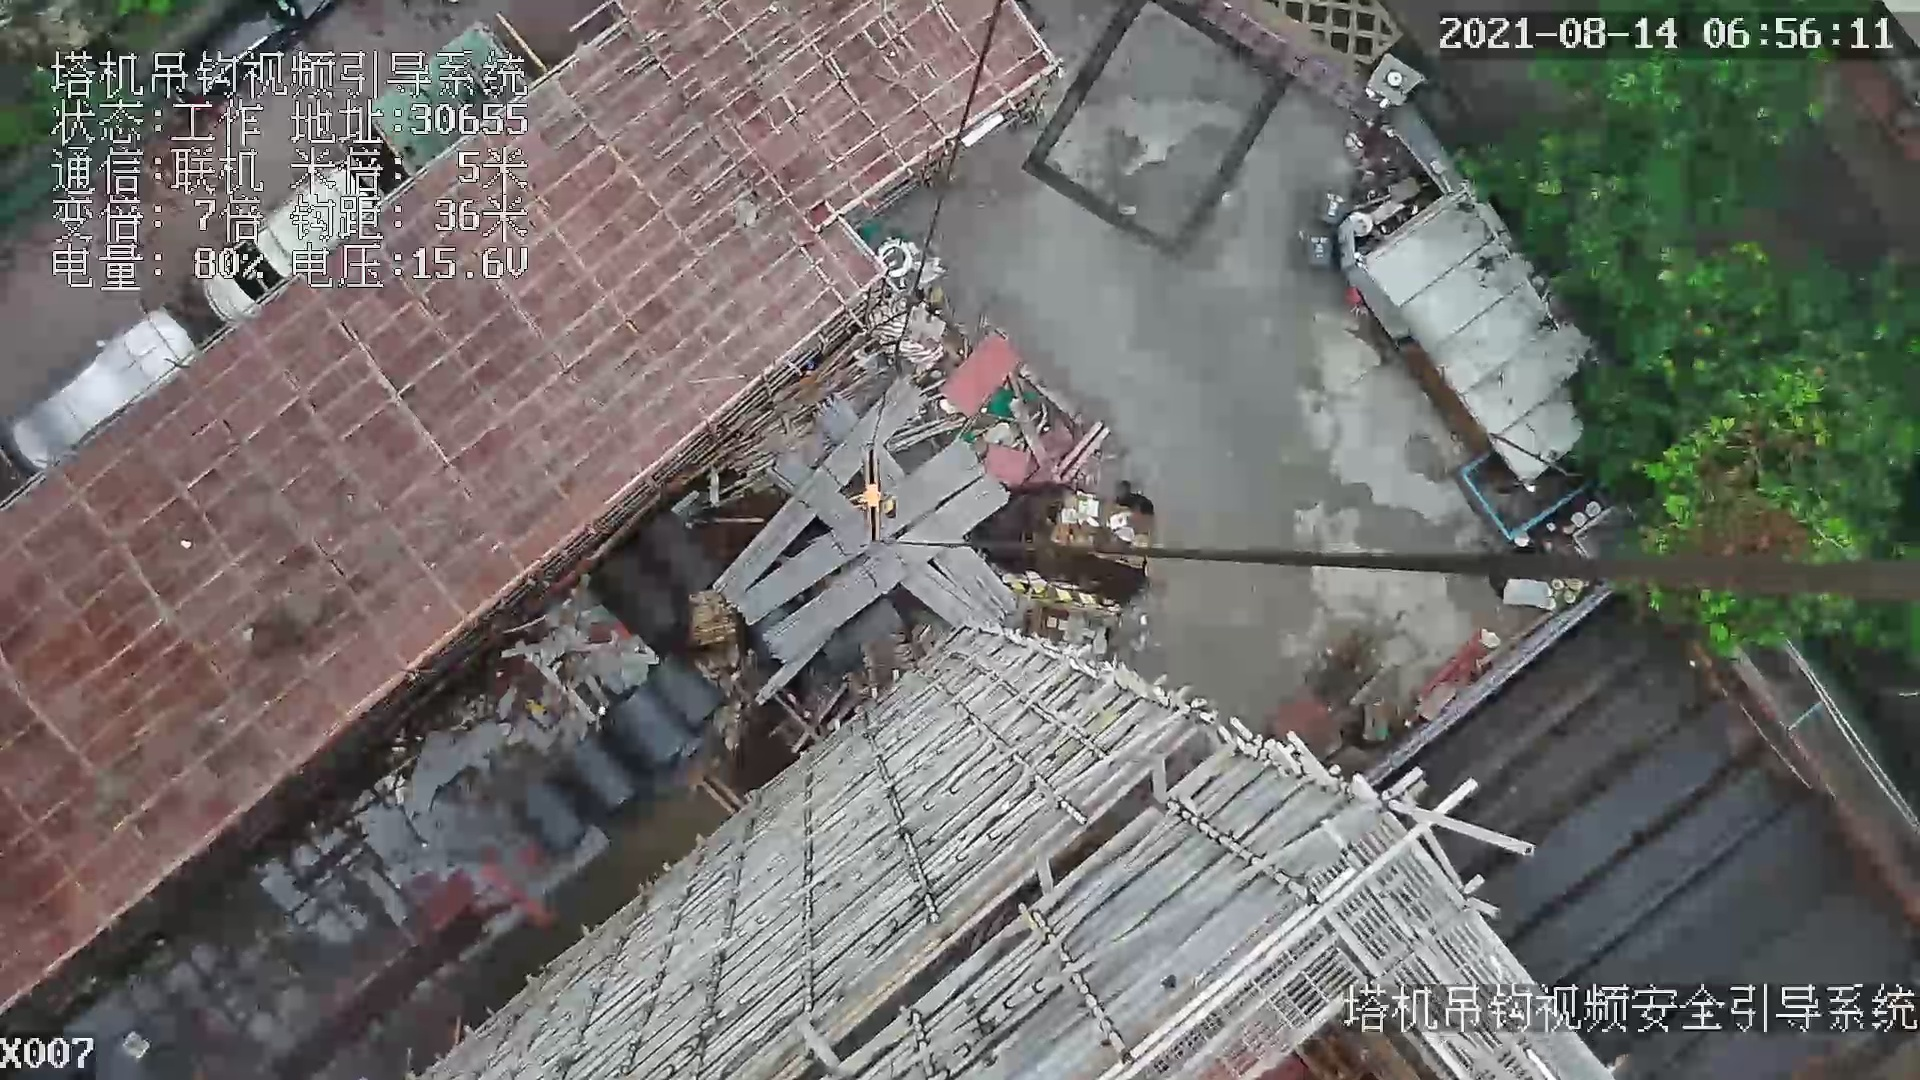helmet: (882, 500, 892, 514)
hook: (853, 442, 892, 541)
person: (879, 496, 896, 520)
rebar: (714, 379, 925, 603), (734, 440, 985, 625), (763, 477, 1010, 665), (933, 540, 1016, 620), (903, 563, 983, 627)
wood: (692, 607, 738, 646)
